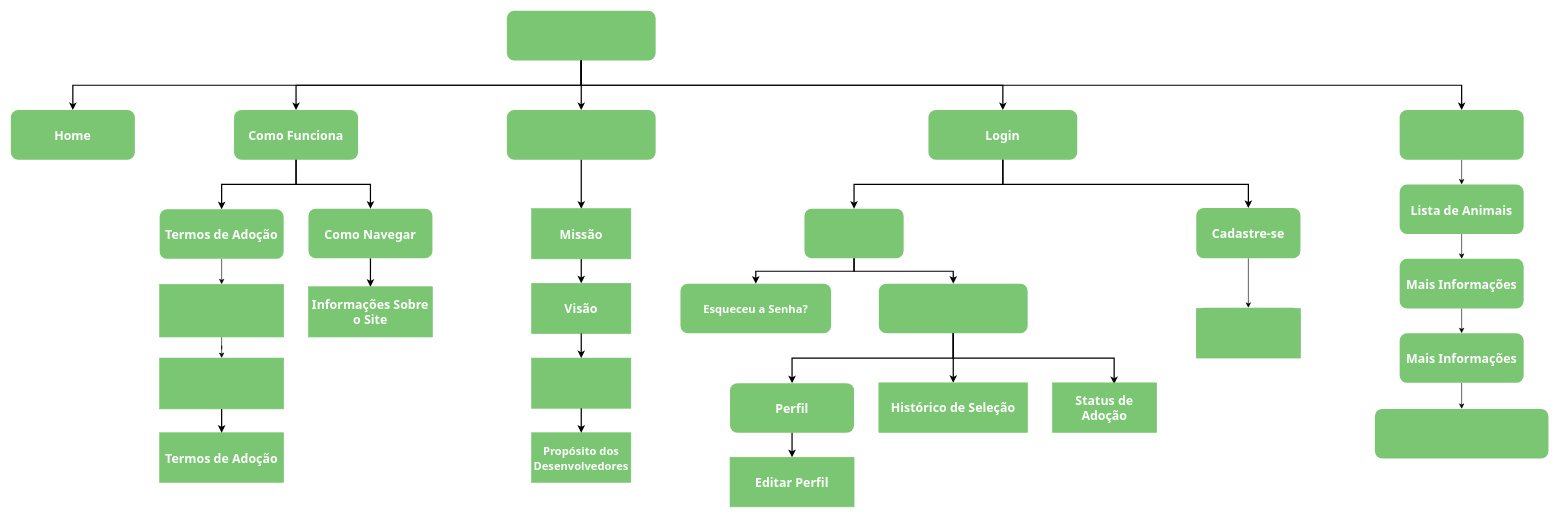
Image size: 1559x518. Some labels were removed from this diagram. Each missing label, with the box of its shape:
Entrar: (804, 208, 903, 258)
Fomulário: Etapa 01: (1375, 409, 1548, 458)
Menu Principal: (507, 11, 655, 60)
Minha Conta: (879, 283, 1027, 333)
Quem Somos: (507, 110, 655, 159)
Quero Adotar: (1399, 110, 1523, 159)
Termos de Cadastro: (1196, 308, 1300, 358)
Termos para Apartamentos: (159, 284, 284, 337)
Termos para Casas: (159, 357, 284, 409)
Valores: (531, 357, 631, 408)
